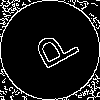P: (25, 25, 81, 77)
